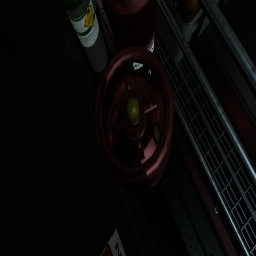0: (61, 0, 108, 72), (91, 0, 97, 12)
NitrogenTank ,: (94, 46, 175, 193), (103, 0, 158, 76)
